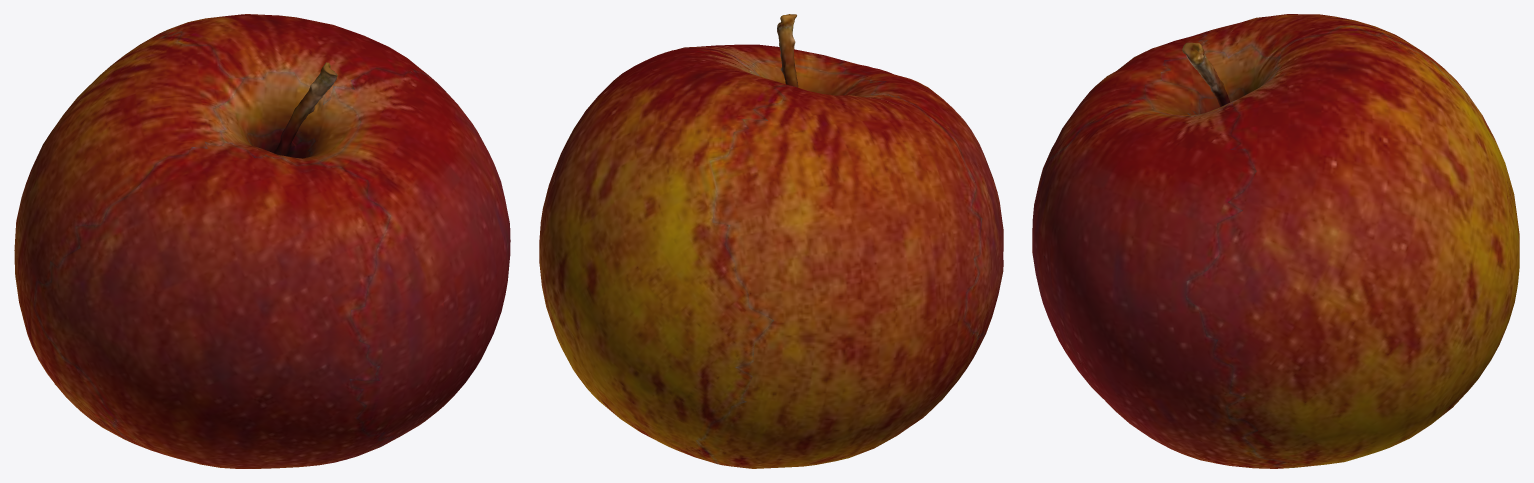
3 renders of one model, left to right at view 1: azimuth 30°, elevation 25°; view 2: azimuth 150°, elevation 25°; view 3: azimuth 270°, elevation 25°, orthographic. The views are drawn at different scales.
Parts seen in each view (by area): view 1: food_apple_01; view 2: food_apple_01; view 3: food_apple_01.
Part boxes in pixels (x1=…): food_apple_01: x1=14, y1=14, x2=510, y2=468; food_apple_01: x1=539, y1=14, x2=1003, y2=468; food_apple_01: x1=1032, y1=14, x2=1519, y2=468.
Size of the model in its own units: 0.0976 by 0.0854 by 0.0959.
Materials: 1 (1 with a texture image).
